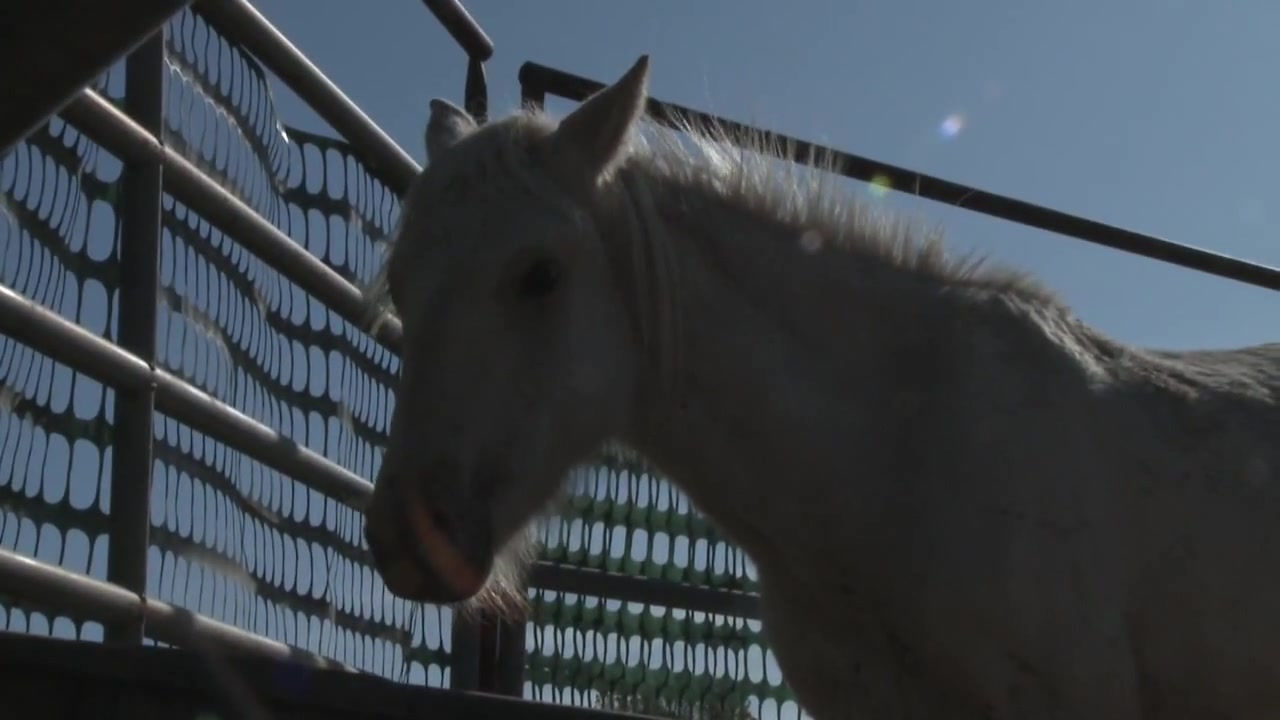horse: (362, 54, 1280, 720)
